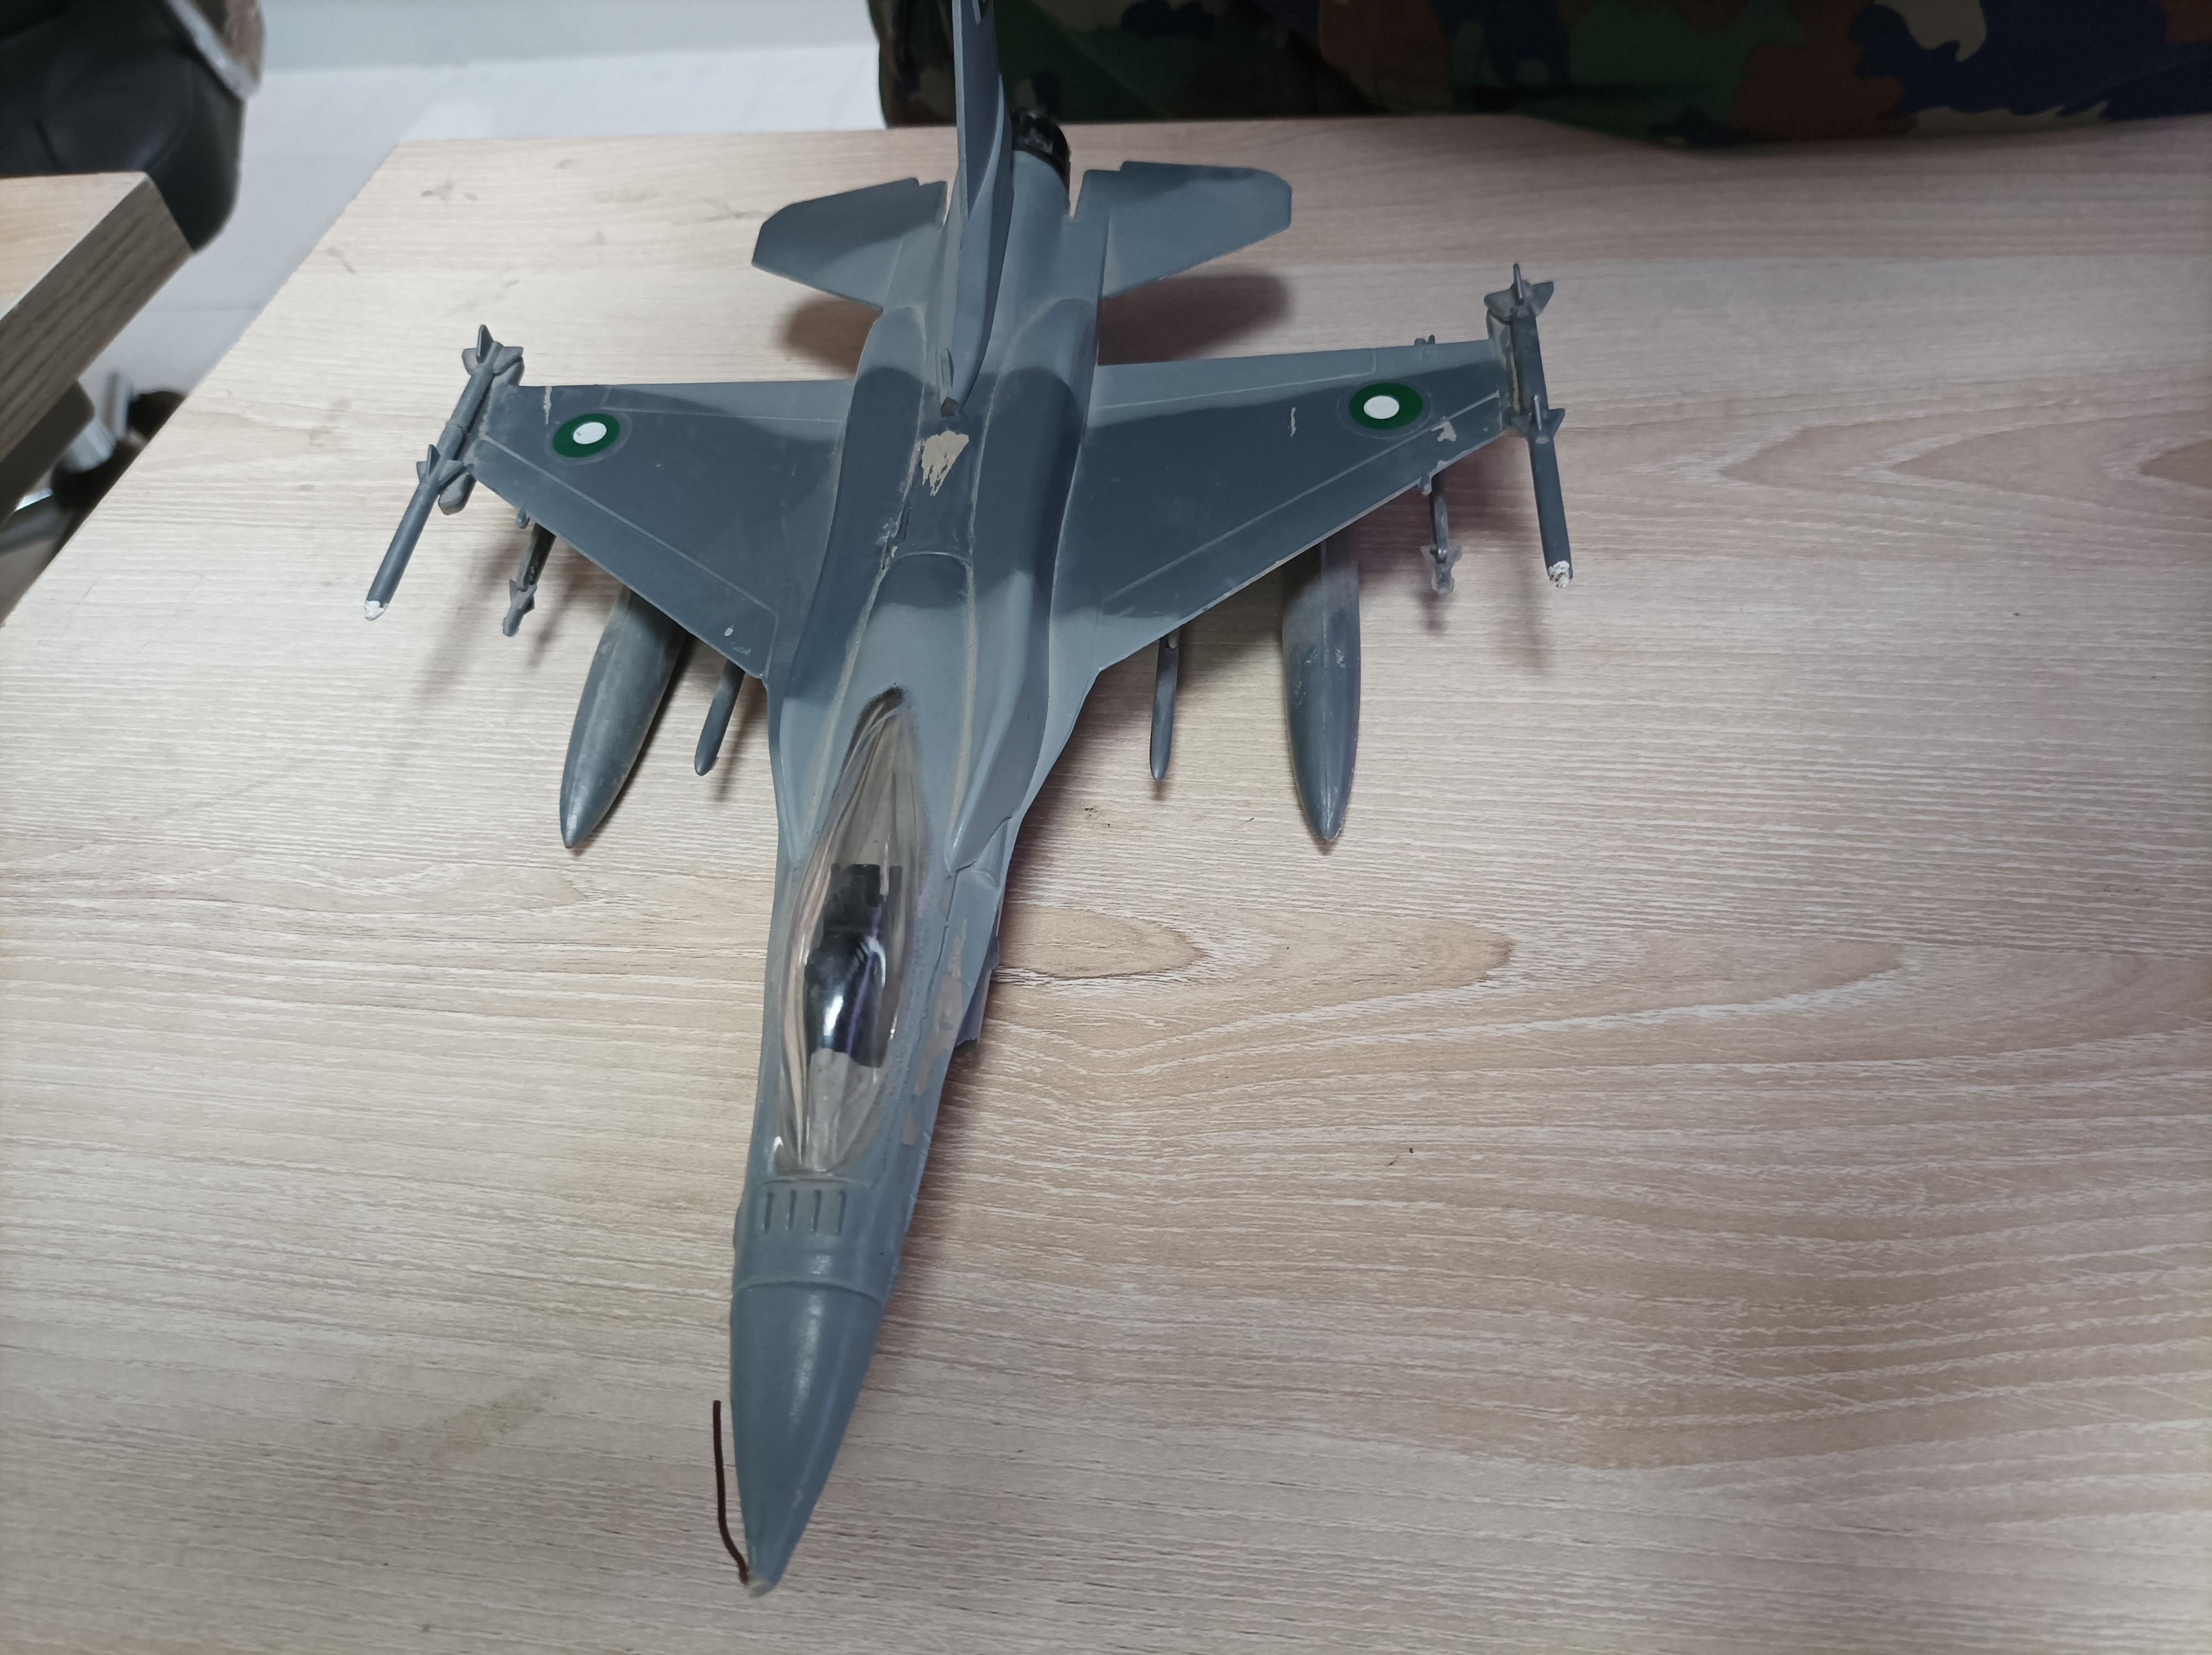Airplane: (341, 0, 1599, 1585)
